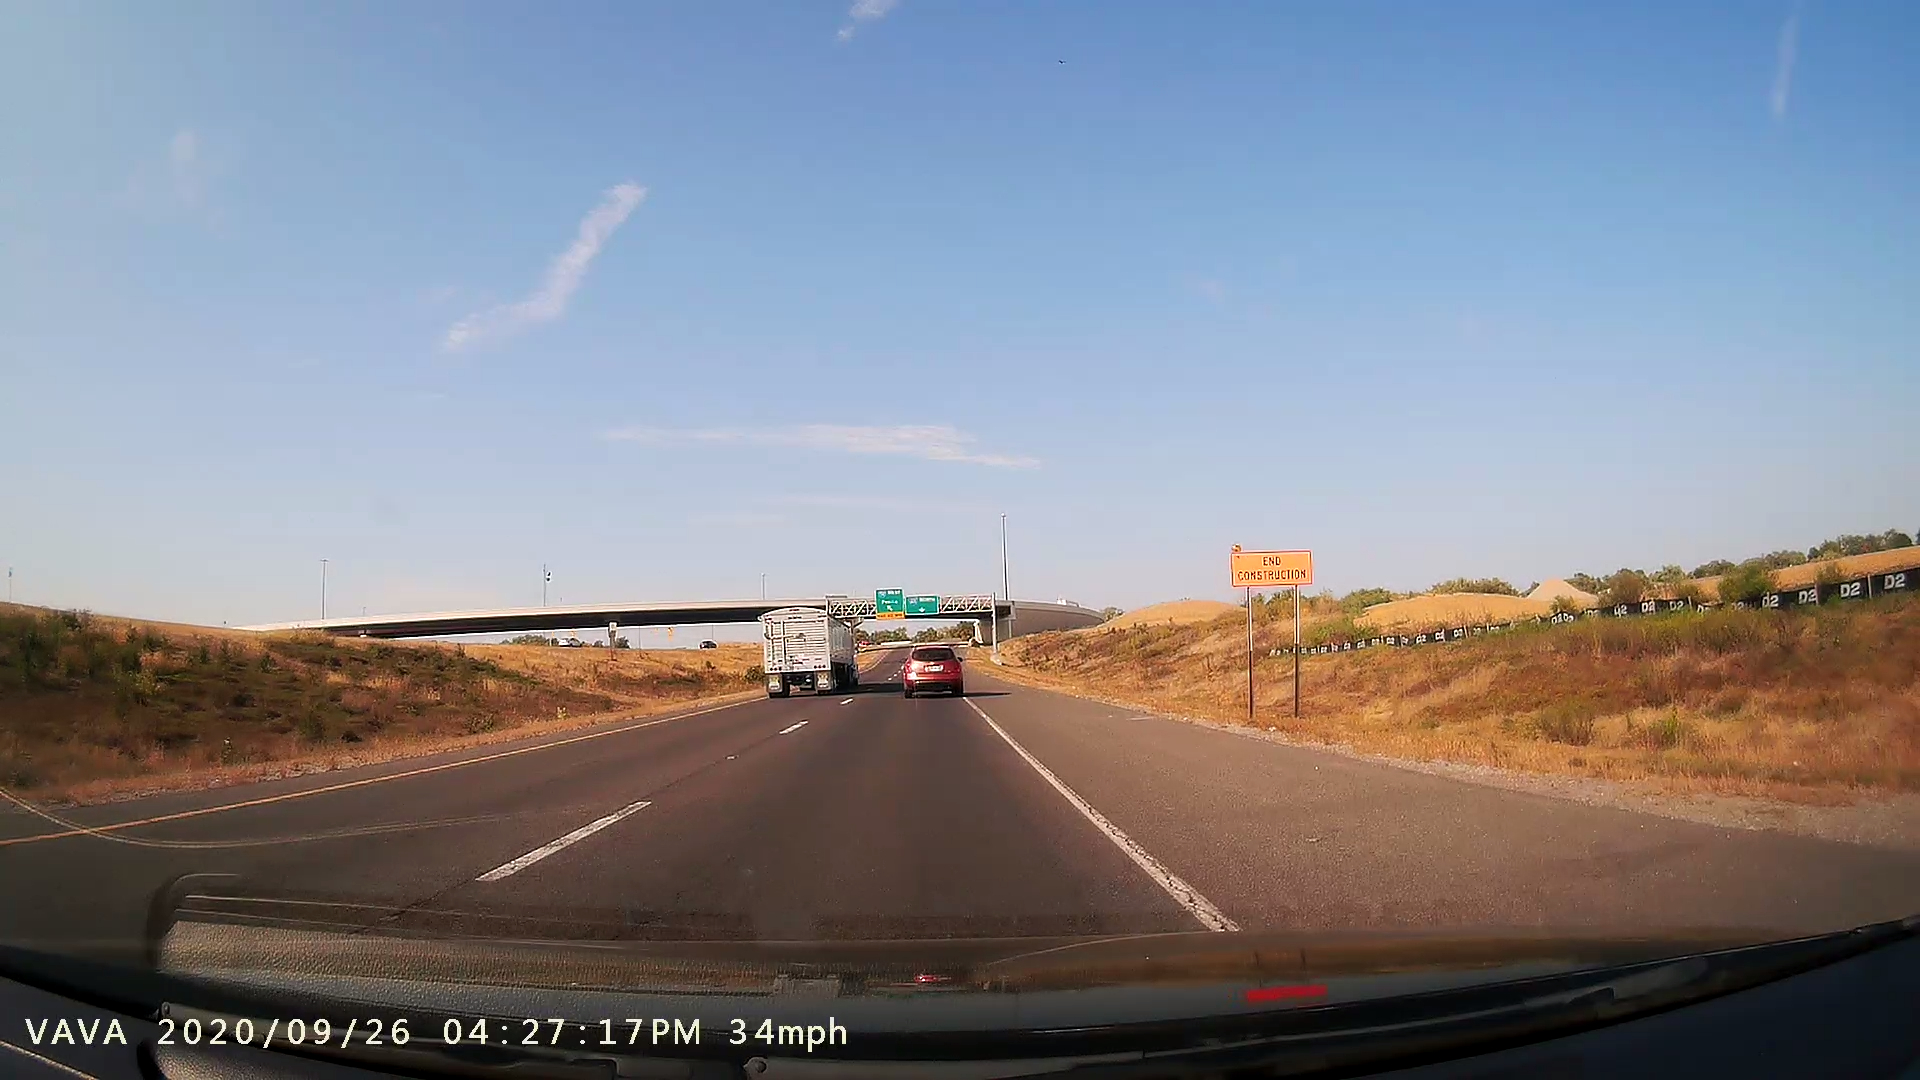ttcs_end_const: (1225, 530, 1338, 731)
